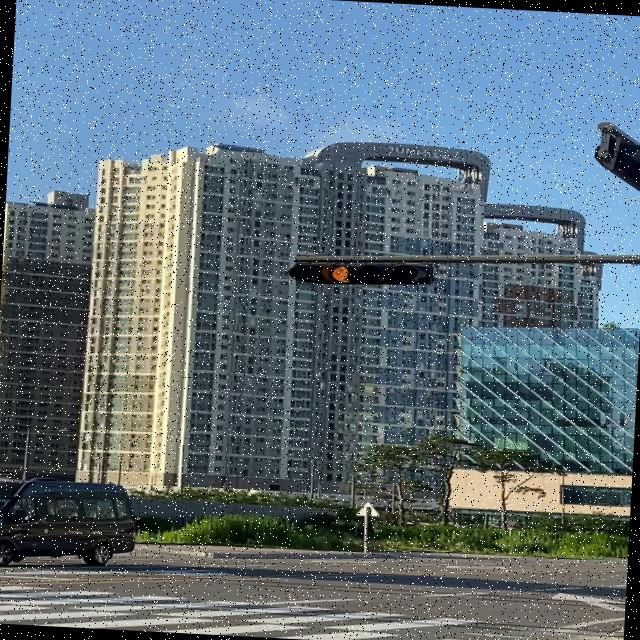yellow_light: (289, 256, 432, 288)
